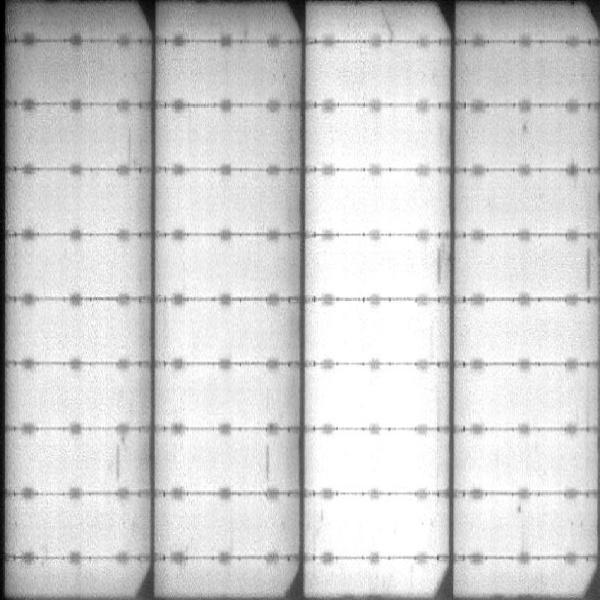scratch: (112, 442, 128, 491), (376, 6, 401, 37), (582, 244, 594, 298), (430, 243, 444, 287), (262, 444, 275, 487)
